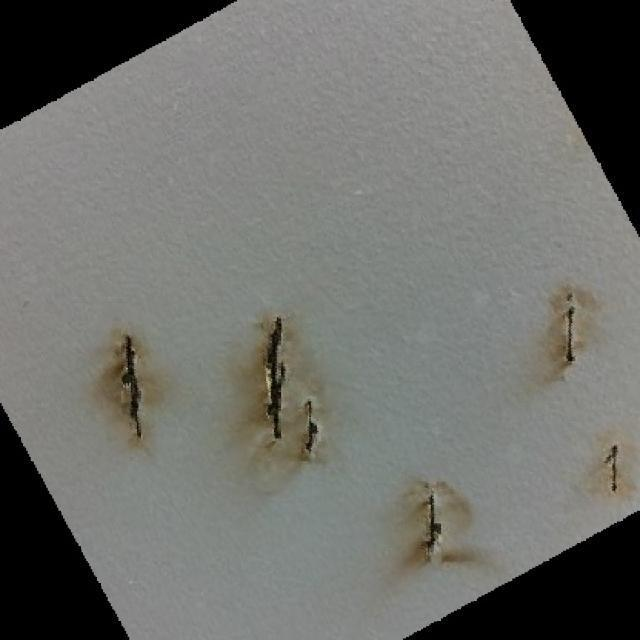crack: (266, 316, 286, 445), (117, 339, 142, 436), (423, 492, 443, 560), (563, 292, 579, 366), (305, 397, 318, 460), (611, 443, 620, 496)
